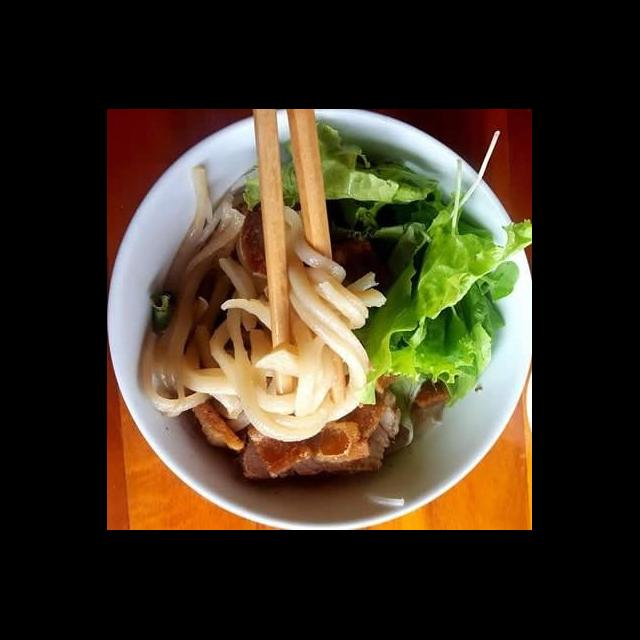banh da: (332, 368, 398, 448), (244, 417, 316, 482), (186, 396, 248, 456), (308, 414, 374, 466)
mi: (136, 162, 388, 444)
